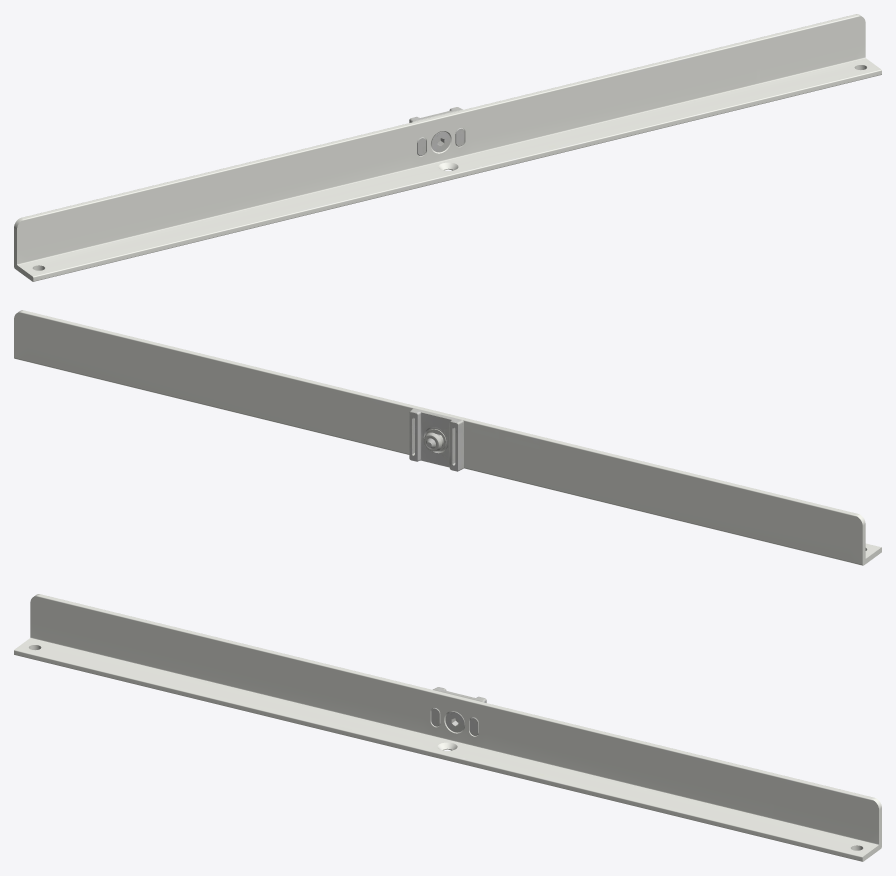
Rendered from 14 - ELVARLI - 立柱支撐架, 白色, 51 公分 IKEA 線上購物.glb.
The picture shows the model from 3 angles, top to bottom: view 1: azimuth 30°, elevation 25°; view 2: azimuth 150°, elevation 25°; view 3: azimuth 330°, elevation 25°; orthographic projection.
Bounding box in the file's own units: 0.508 × 0.028 × 0.0292.
Materials: 1 (1 with a texture image).
